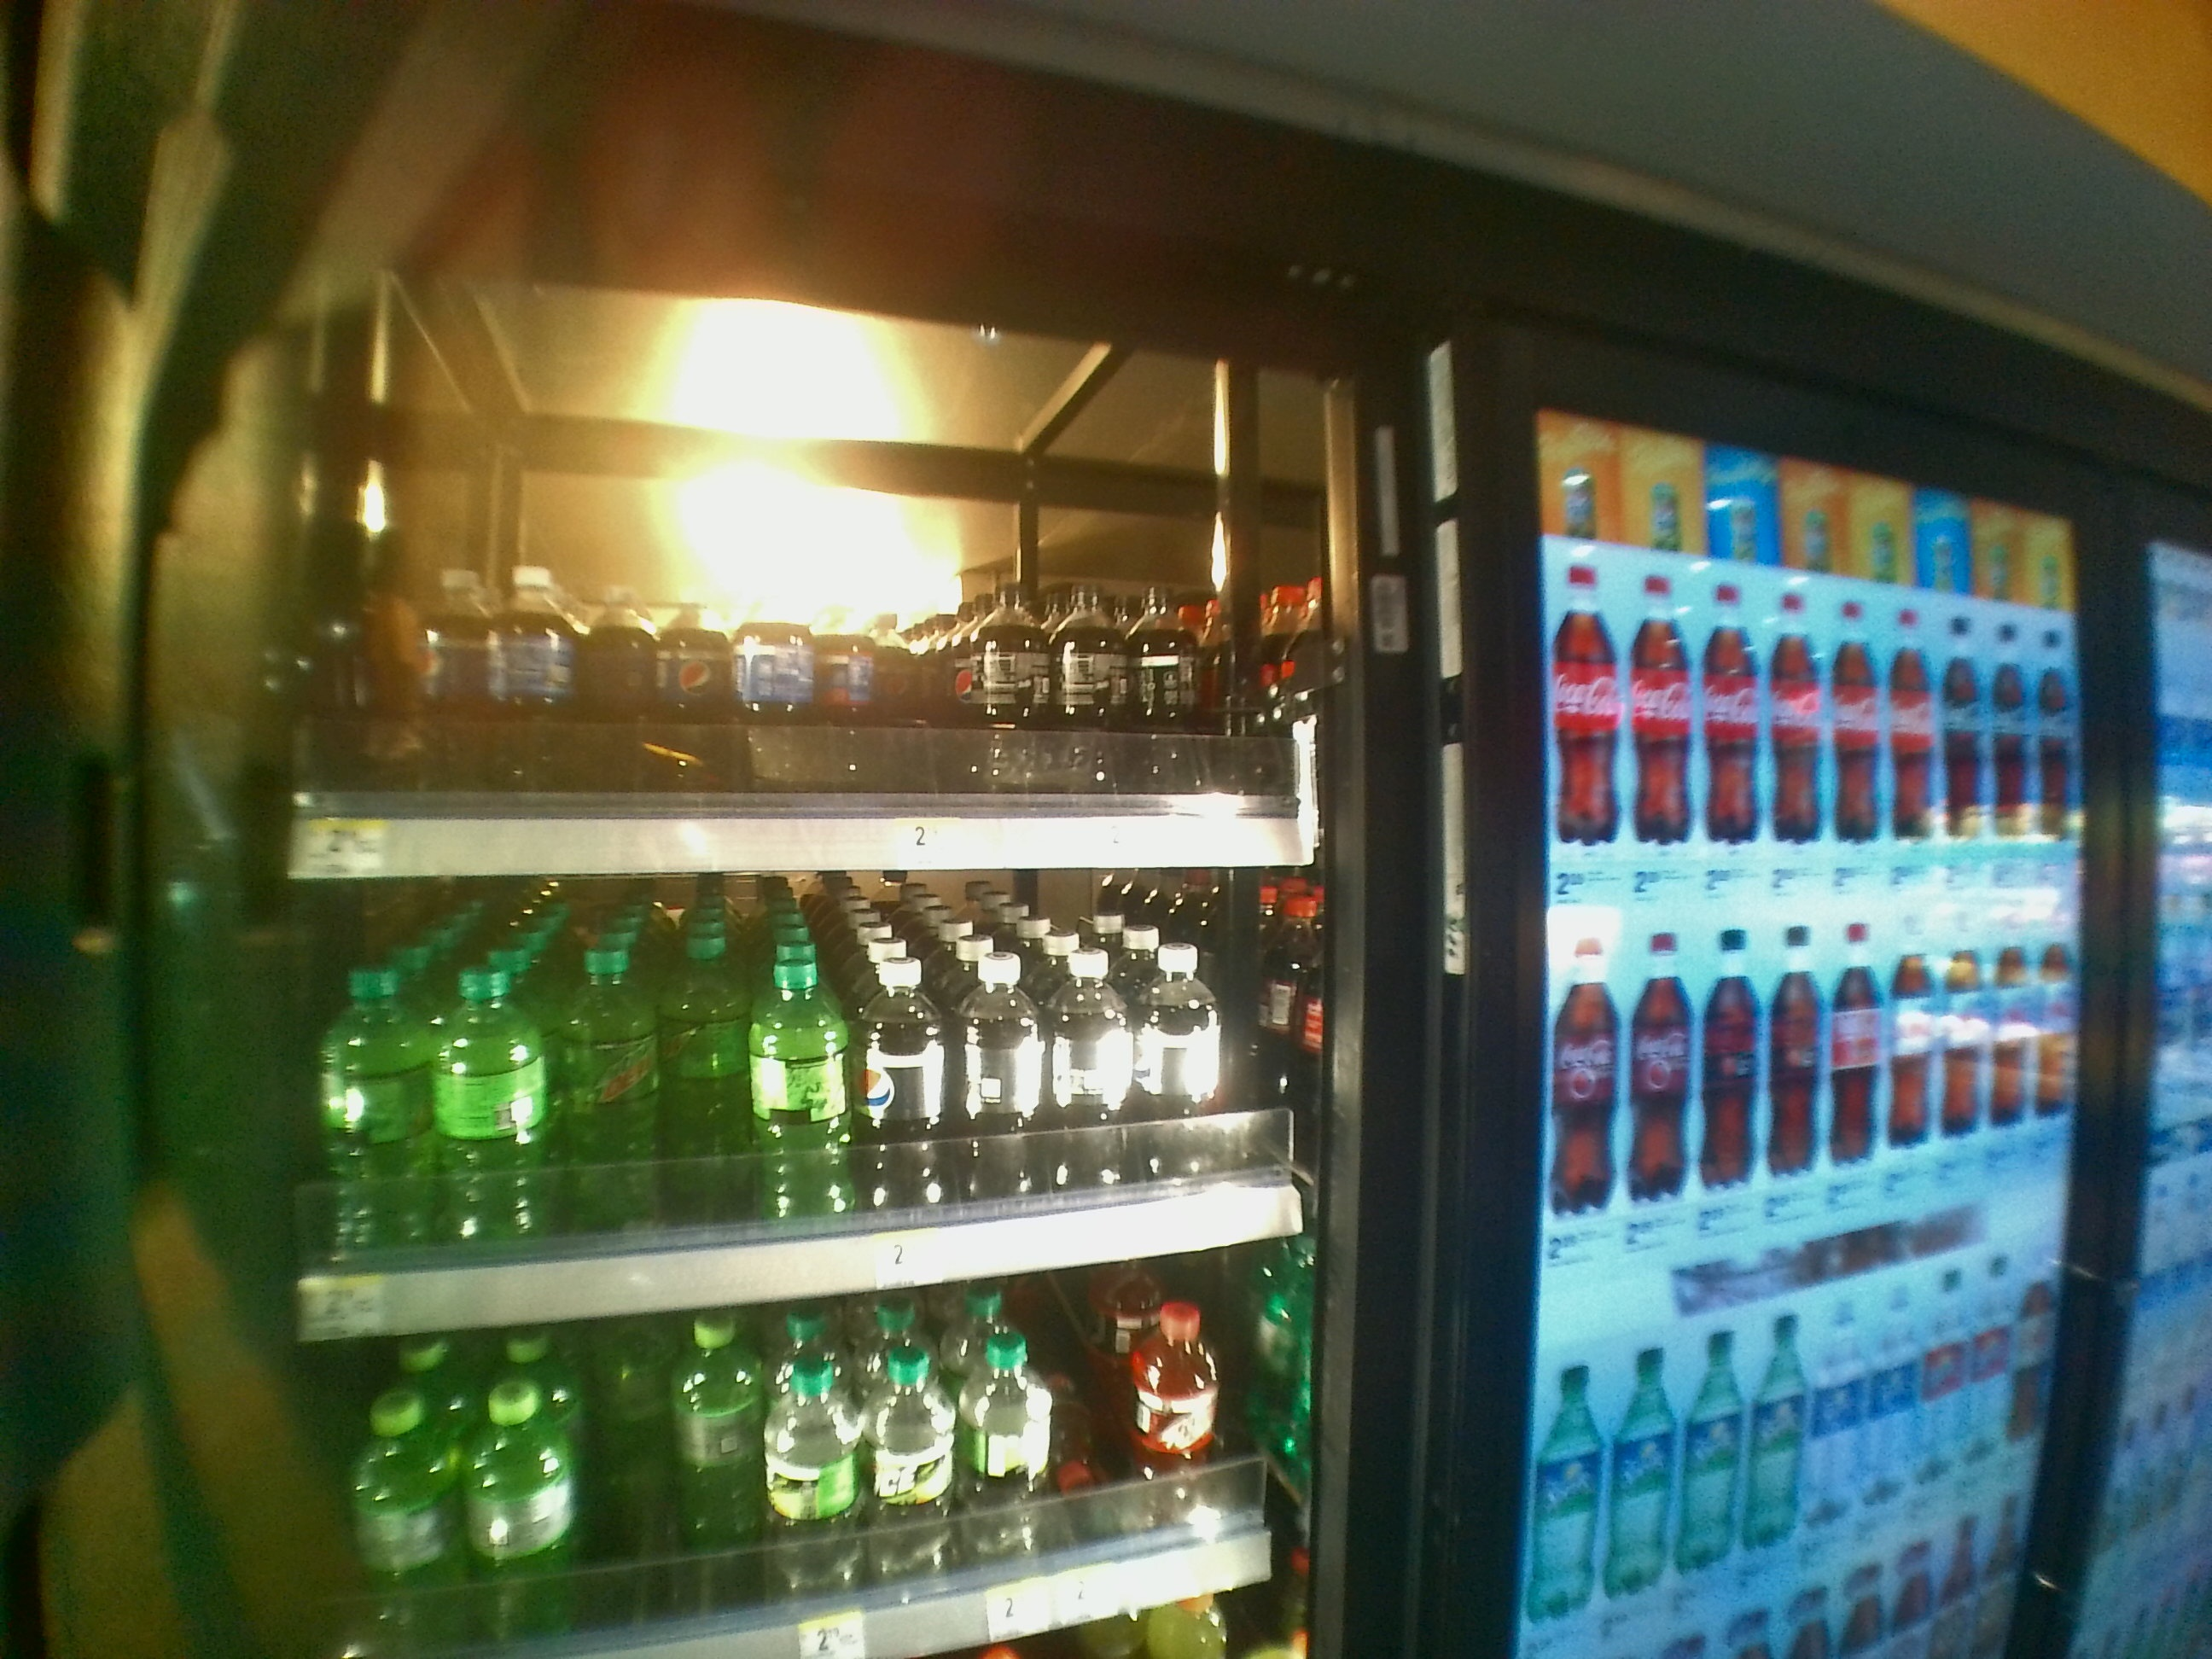shelf: (239, 267, 1357, 880)
